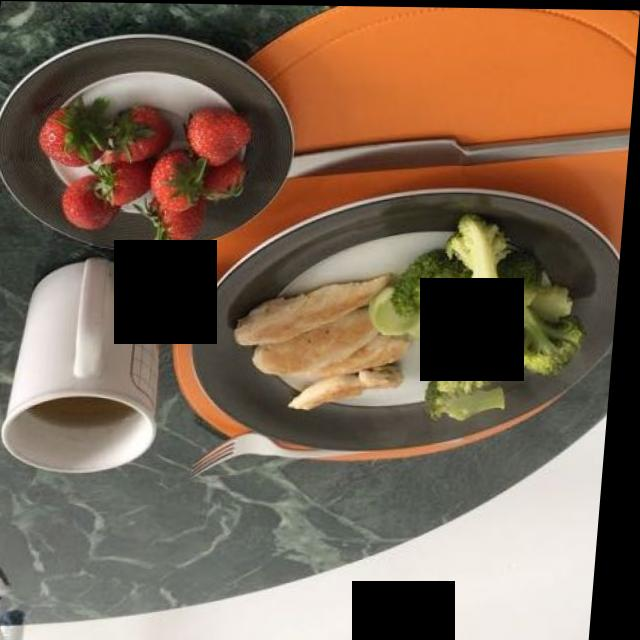broccoli: (387, 215, 580, 413)
chicken: (246, 267, 449, 428)
strawberries: (41, 98, 255, 239)
tea: (29, 375, 147, 430)
